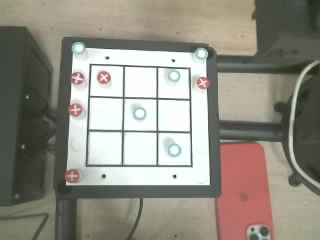blue circle: (168, 143, 181, 156), (72, 42, 85, 54), (133, 107, 146, 119), (194, 48, 207, 59), (168, 70, 180, 81)
board: (65, 42, 210, 185)
cells: (88, 132, 121, 164), (158, 133, 190, 165), (89, 98, 122, 129), (124, 99, 156, 130), (124, 133, 156, 164), (90, 66, 123, 96), (158, 100, 189, 130), (158, 68, 189, 98), (125, 67, 156, 96)
grid: (86, 64, 192, 166)
red cross: (64, 169, 79, 182), (68, 103, 82, 116), (196, 77, 210, 89), (70, 72, 84, 84), (97, 71, 110, 83)
